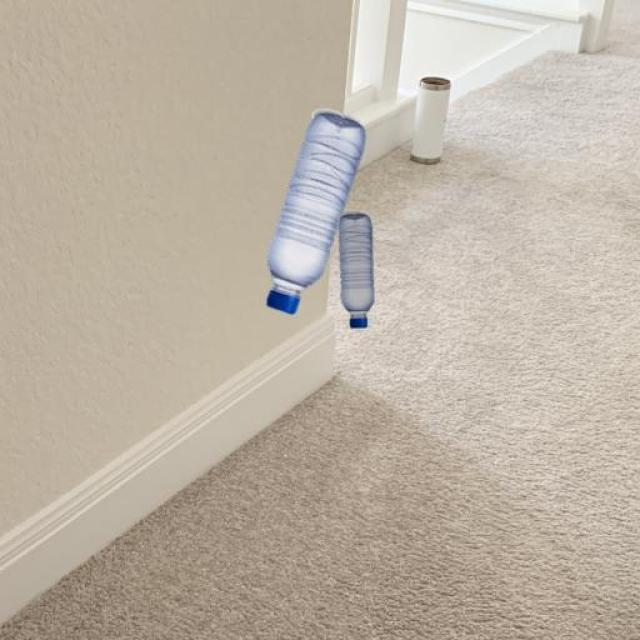bottle: (254, 105, 365, 326), (331, 210, 381, 328)
